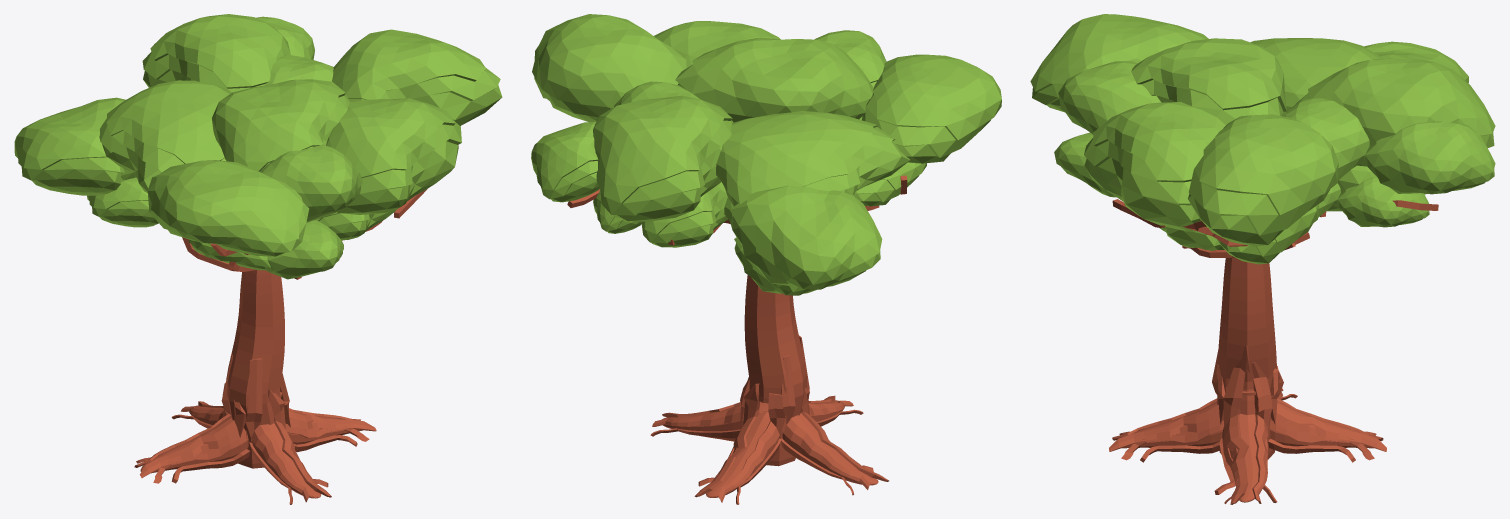
Rendered from Mountains.fbx.
3 renders of one model, left to right at view 1: azimuth 30°, elevation 25°; view 2: azimuth 150°, elevation 25°; view 3: azimuth 270°, elevation 25°, orthographic. The views are drawn at different scales.
Visible parts, largest first — view 1: Cube.064; view 2: Cube.064; view 3: Cube.064.
Part boxes in pixels (x1,y1,x2,y2): Cube.064: (14,14,502,504); Cube.064: (531,14,1001,504); Cube.064: (1030,14,1495,504).
Size of the model in its own units: 18994 by 17029 by 17768.
